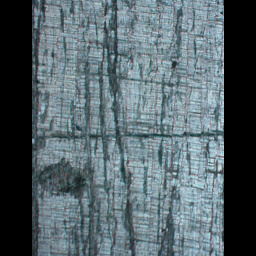d: (32, 153, 89, 200)
